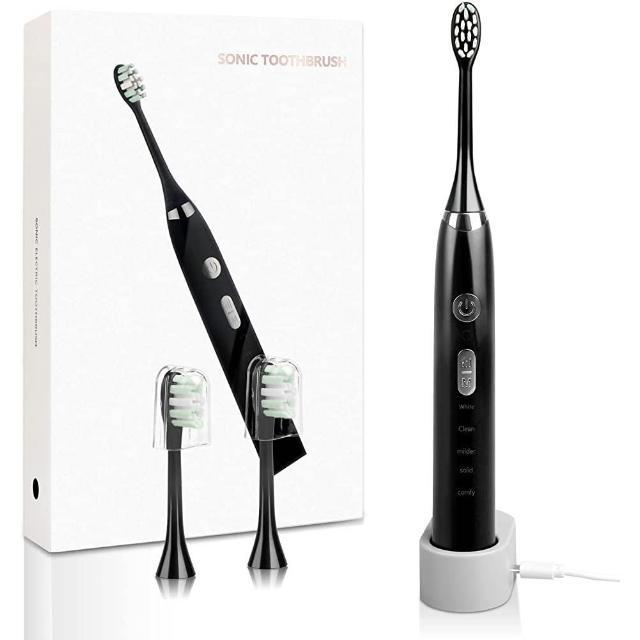toothbrush: (404, 0, 534, 636)
